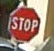stop: (6, 4, 40, 42)
